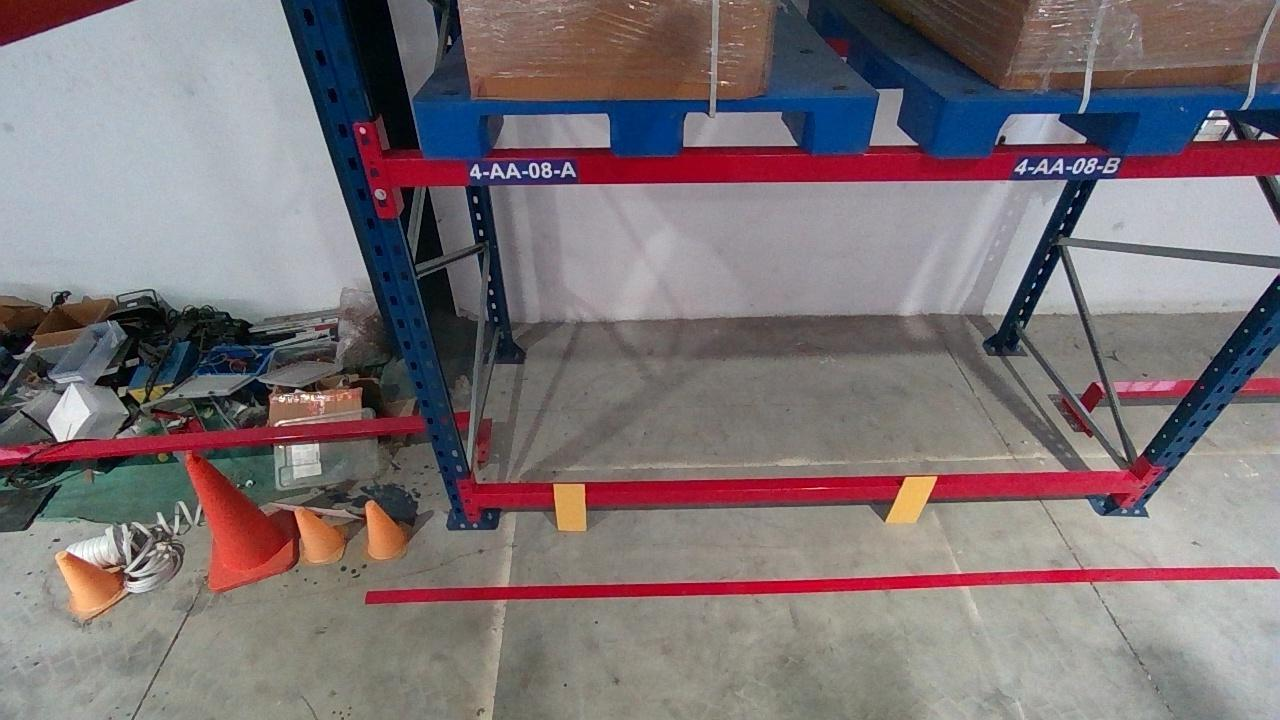h_rack: (384, 149, 1278, 183), (476, 478, 1142, 506)
orange_strip: (884, 475, 940, 523), (552, 483, 586, 531)
red_line: (369, 564, 1275, 602)
small_pallet: (414, 96, 878, 153), (935, 96, 1278, 153)
